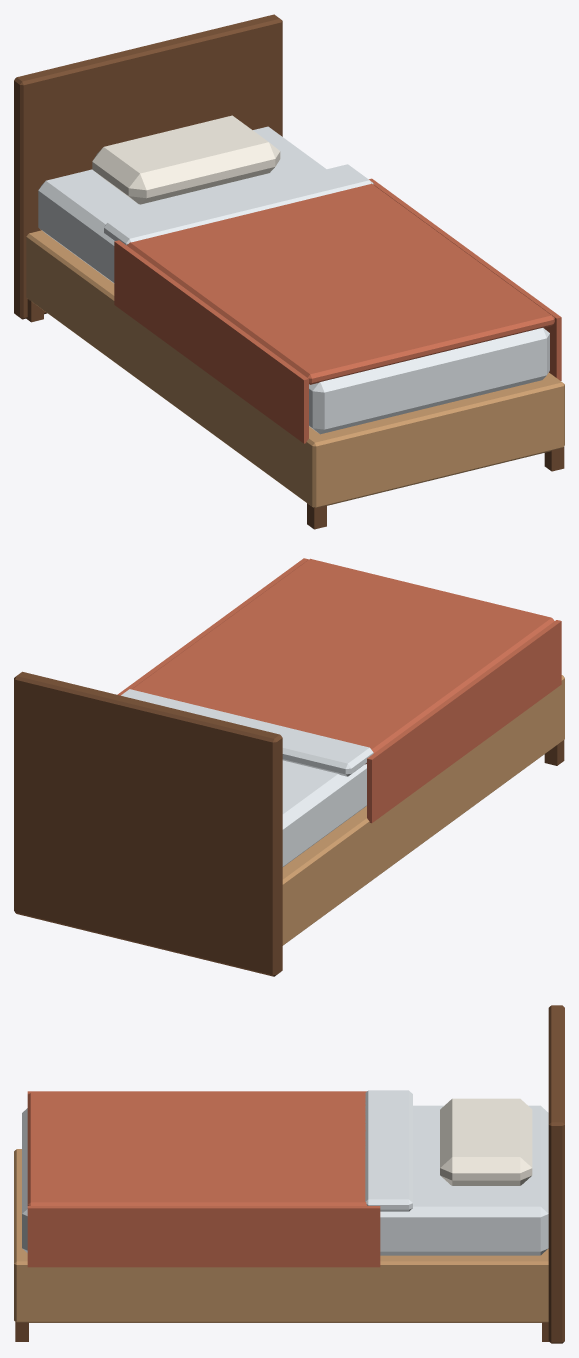
Rendered from bed_single.glb.
3 renders of one model, top to bottom at view 1: azimuth 30°, elevation 25°; view 2: azimuth 150°, elevation 25°; view 3: azimuth 270°, elevation 25°, orthographic. The views are drawn at different scales.
Parts seen in each view (by area): view 1: BedSingle; view 2: BedSingle; view 3: BedSingle.
Part boxes in pixels (x1,y1,x2,y2): BedSingle: [14, 14, 564, 529]; BedSingle: [14, 558, 564, 976]; BedSingle: [14, 1005, 564, 1343].
Bounding box in the file's own units: 1.04 × 0.9 × 2.03.
